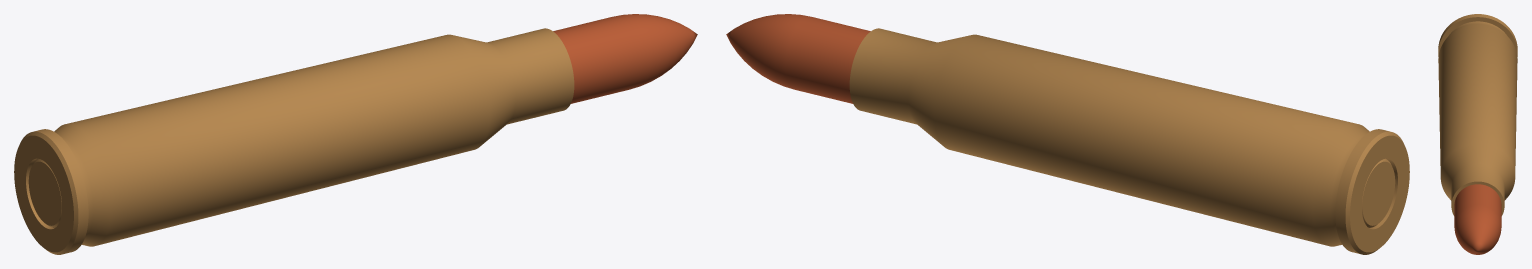
The model's file is round_5_d_56x45.glb.
3 views of the same model, side by side, from view 1: azimuth 30°, elevation 25°; view 2: azimuth 150°, elevation 25°; view 3: azimuth 270°, elevation 25° (orthographic). The views are drawn at different scales.
Parts seen in each view (by area): view 1: cartridge:cartridge-model; view 2: cartridge:cartridge-model; view 3: cartridge:cartridge-model.
Boxes of the visible parts, x1,y1,x2,y2 form: cartridge:cartridge-model: [14, 14, 697, 254]; cartridge:cartridge-model: [726, 14, 1409, 254]; cartridge:cartridge-model: [1438, 14, 1517, 254].
Bounding box in the file's own units: 0.0574 × 0.0096 × 0.0096.
